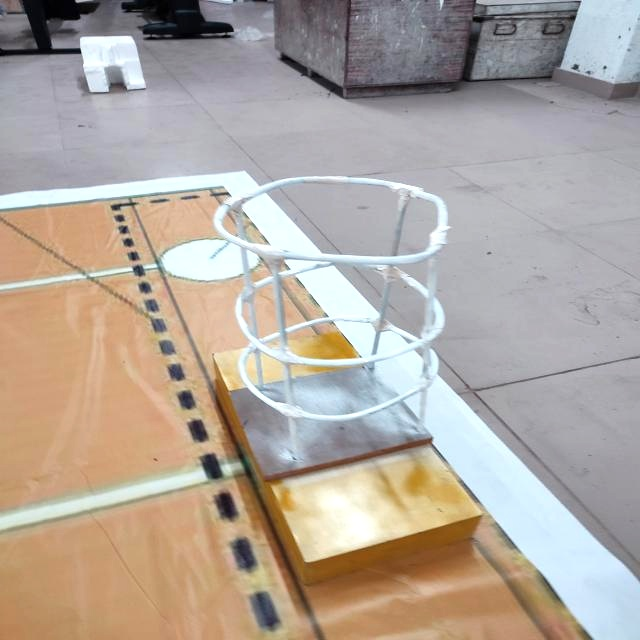silo: (192, 167, 474, 486)
